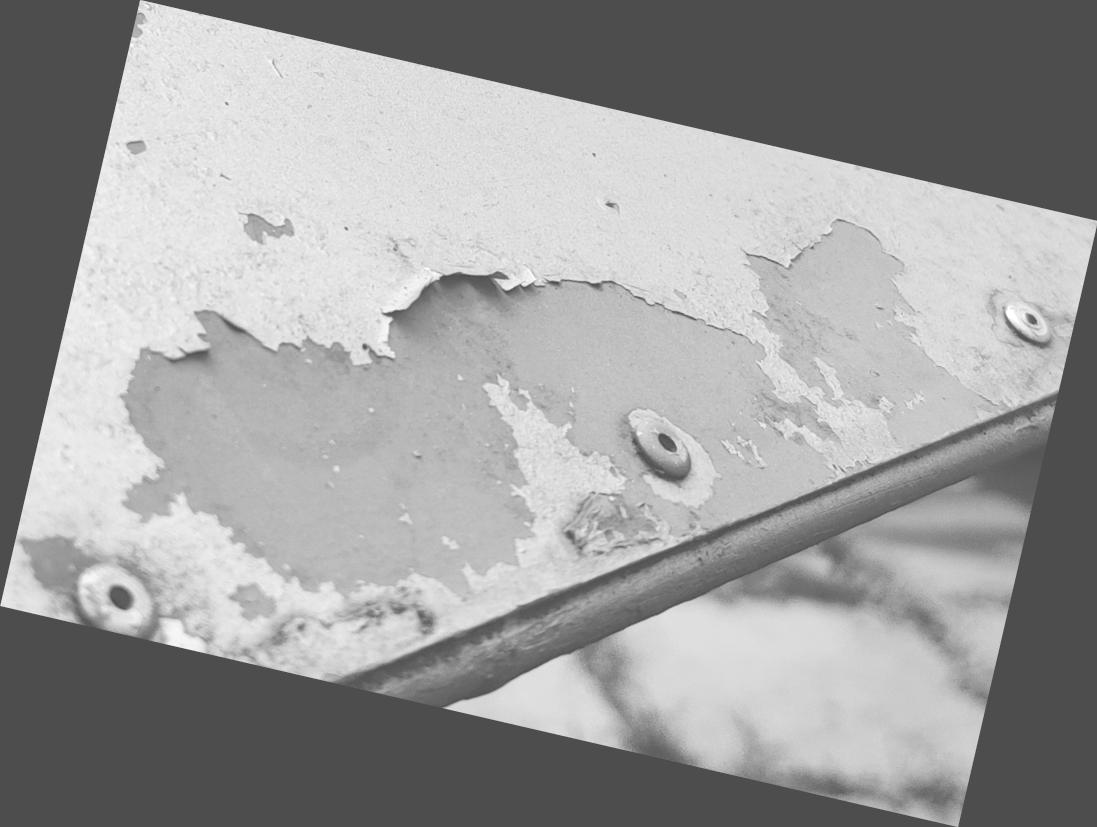paint-off: (0, 1, 1097, 827)
